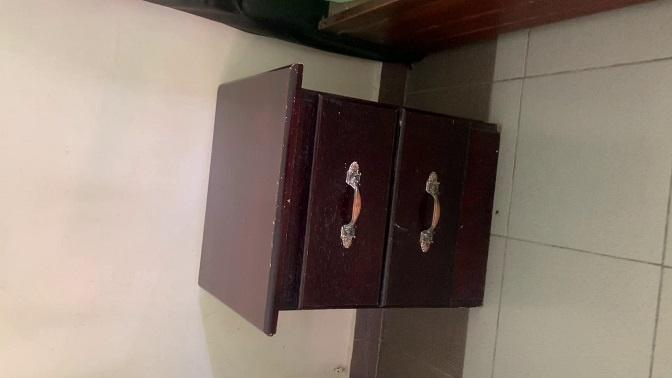cabinet_door: (306, 104, 389, 305), (399, 118, 477, 303)
handle: (338, 161, 371, 251), (417, 168, 447, 259)
